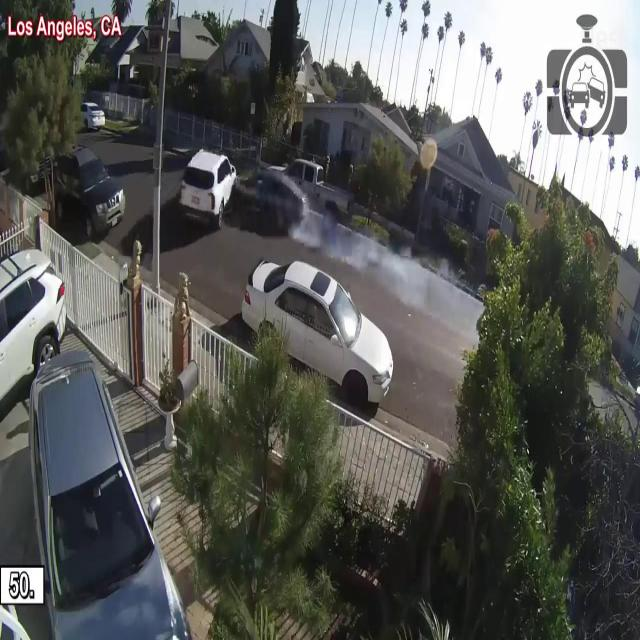accident: (177, 131, 308, 257)
